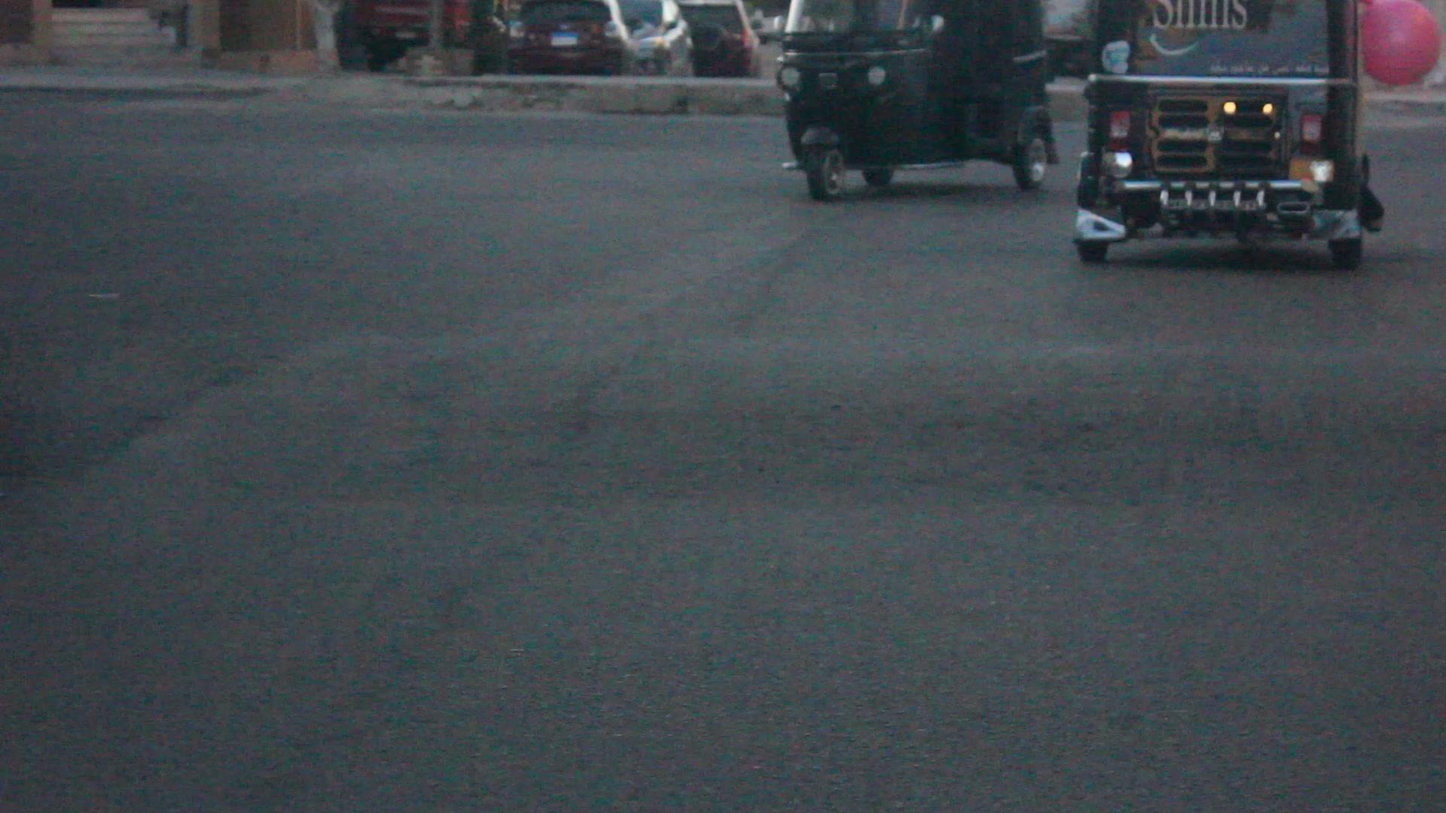Bump: (2, 329, 1445, 500)
